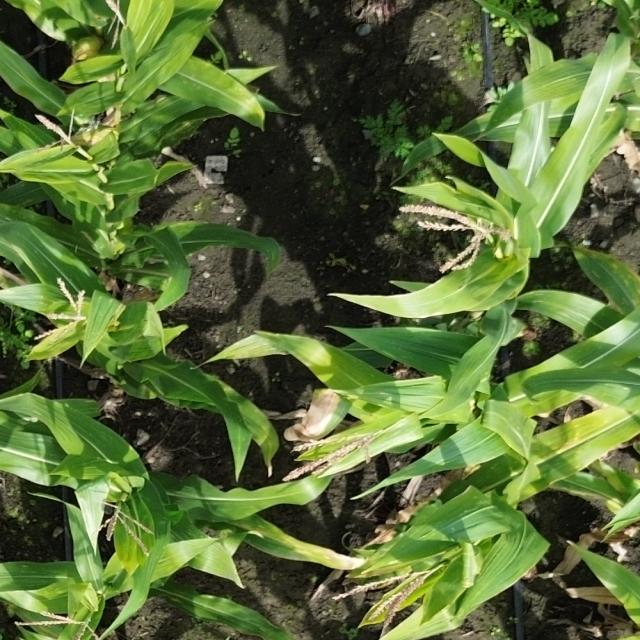gray-leaf-spot: (574, 250, 640, 294), (4, 565, 64, 585)
northern-leaf-blight: (239, 524, 354, 568), (312, 384, 384, 421), (548, 422, 622, 457)
